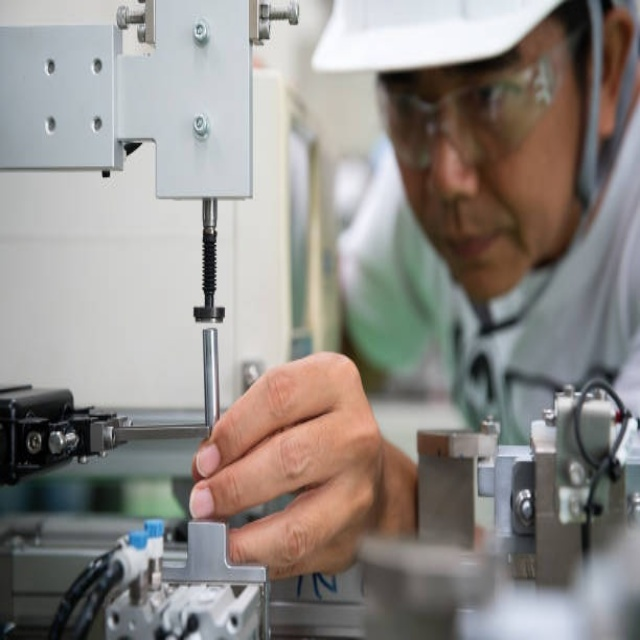Gafas: (378, 39, 569, 173)
Sin_guantes: (190, 351, 390, 579)
Sin_mascara: (425, 209, 520, 290)
